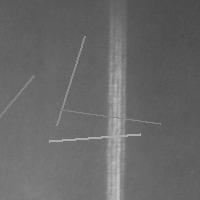scratches: (104, 10, 128, 199), (52, 31, 90, 130), (56, 105, 165, 129), (0, 71, 38, 124), (44, 129, 145, 146)
